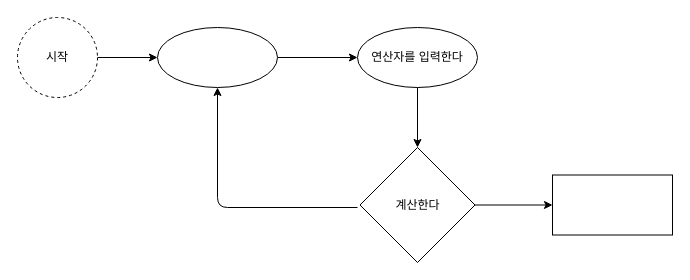
The diagram is 690 pixels wide and 280 high, and some of its shapes have lost their labels. Each missing label, with the box of its shape:
계산끝: (552, 174, 672, 235)
숫자를 입력한다: (156, 26, 278, 88)
